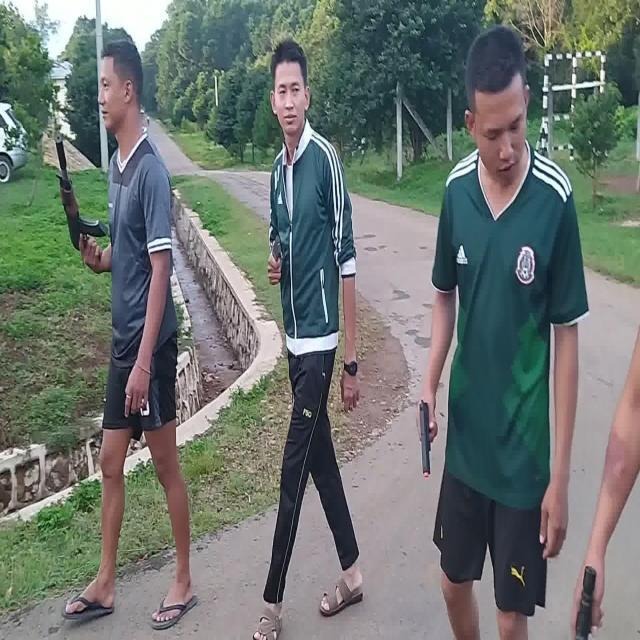gun: (56, 136, 108, 260), (420, 401, 432, 477)
